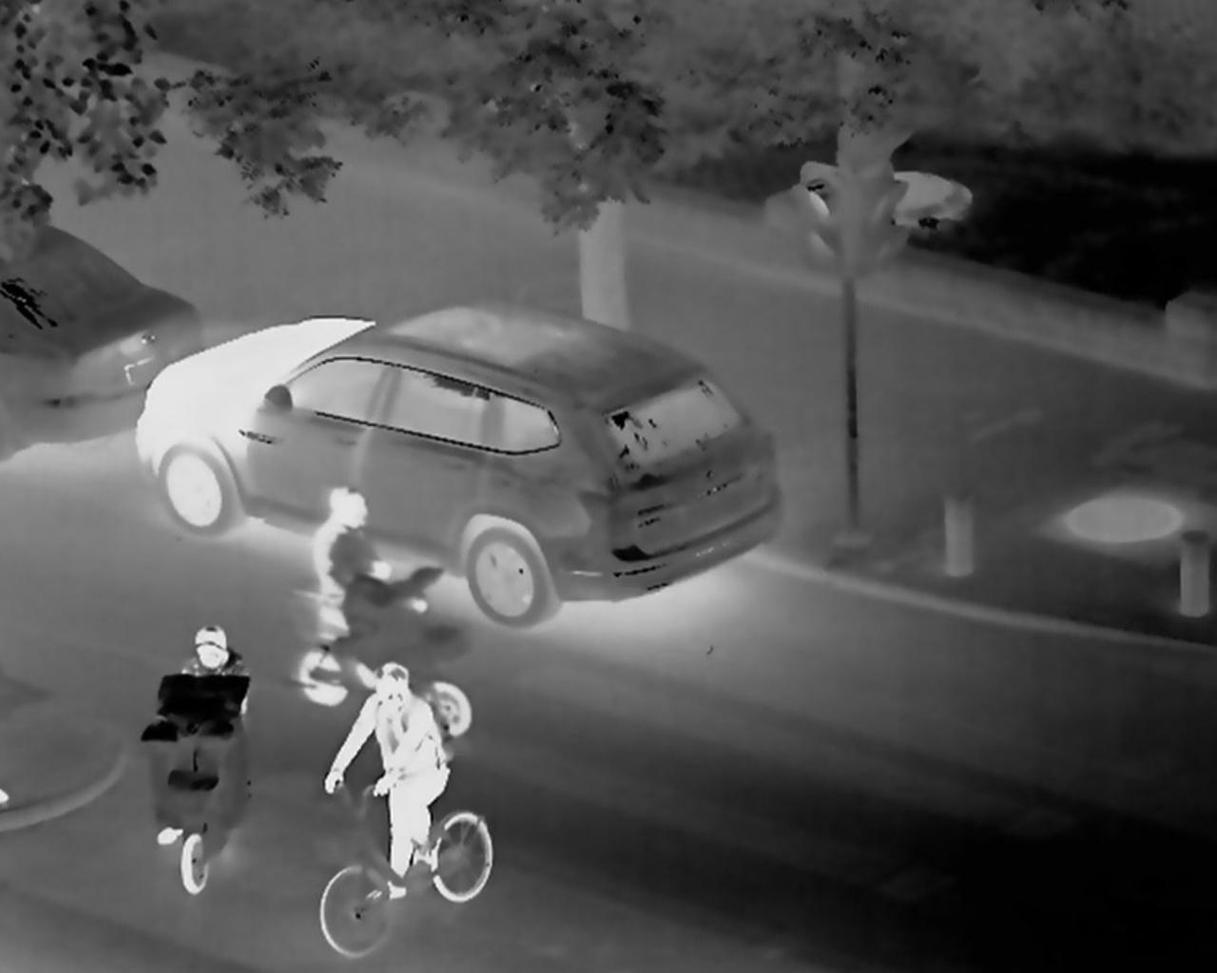person: (355, 658, 469, 883), (144, 588, 279, 688), (319, 485, 377, 648)
